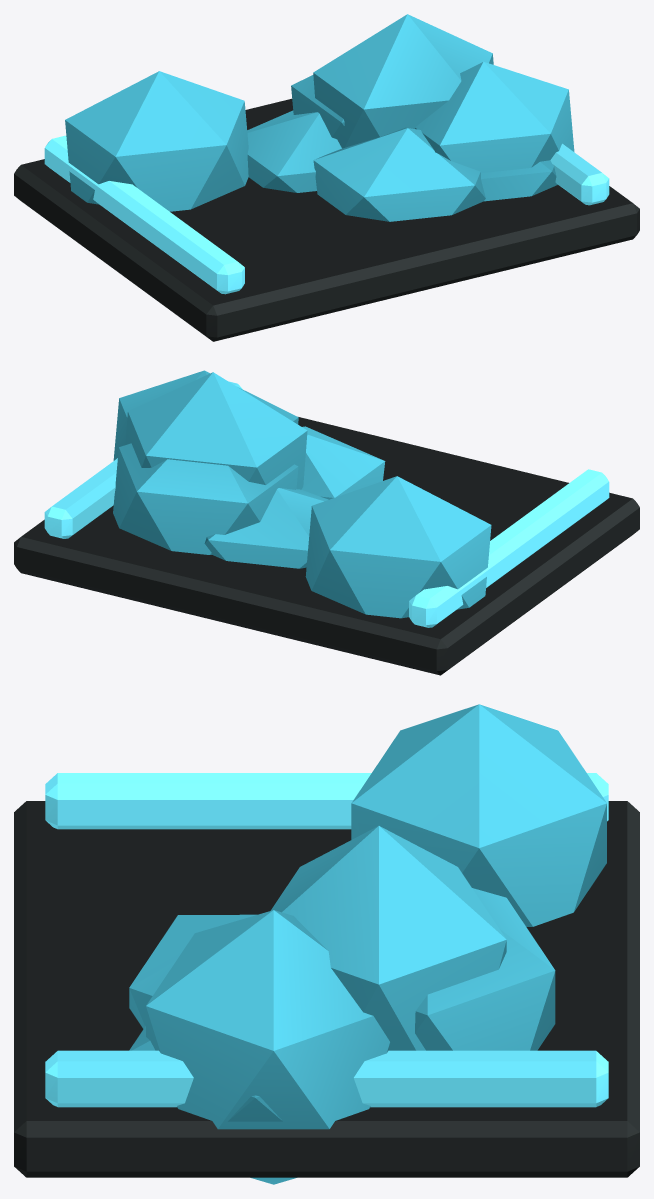
File: ResourceB.glb
3 renders of one model, top to bottom at view 1: azimuth 30°, elevation 25°; view 2: azimuth 150°, elevation 25°; view 3: azimuth 270°, elevation 25°, orthographic. The views are drawn at different scales.
Visible parts, largest first — view 1: export_ResourceB_Mineral; view 2: export_ResourceB_Mineral; view 3: export_ResourceB_Mineral.
Part boxes in pixels (x1,y1,x2,y2): export_ResourceB_Mineral: (14, 14, 639, 341); export_ResourceB_Mineral: (14, 370, 639, 675); export_ResourceB_Mineral: (14, 704, 639, 1184).
Size of the model in its own units: 2.55 by 1.2 by 2.
